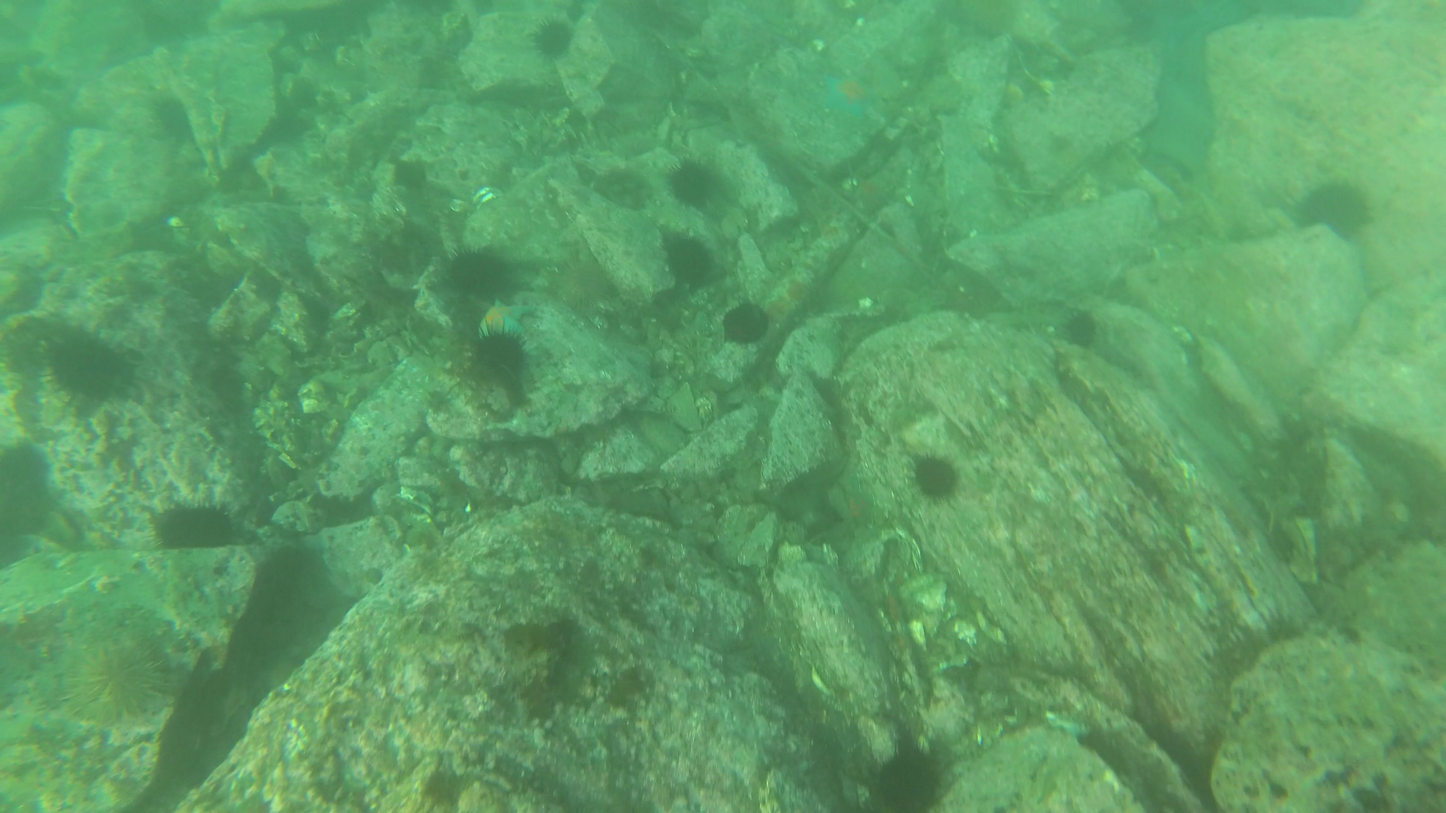holothurian: (823, 71, 878, 126), (470, 298, 529, 343)
starfish: (67, 635, 172, 725), (44, 328, 128, 403), (869, 743, 944, 812), (156, 497, 244, 555), (1302, 179, 1374, 244), (470, 326, 529, 390), (670, 154, 720, 207), (911, 448, 958, 501), (720, 298, 770, 344), (446, 249, 499, 292), (532, 15, 574, 63), (667, 235, 711, 280), (1063, 306, 1100, 341), (392, 161, 433, 192)
